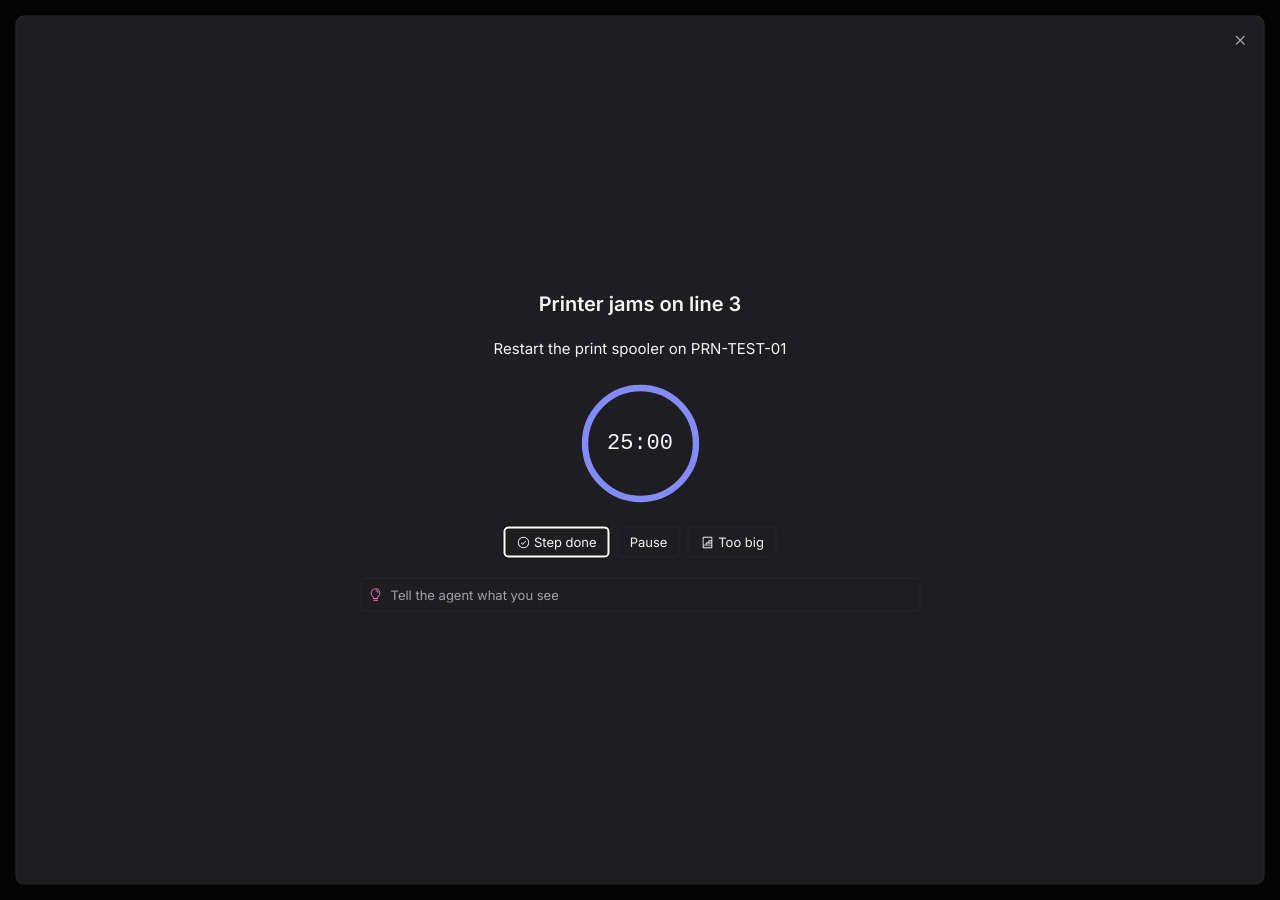
Scenario: FocusSession › test step done on an approve step reveals its actions
Check: the button "Approve" is not shown
Step 1. Click the button "Step done" → [556, 542], box x1=503 y1=527 x2=609 y2=558
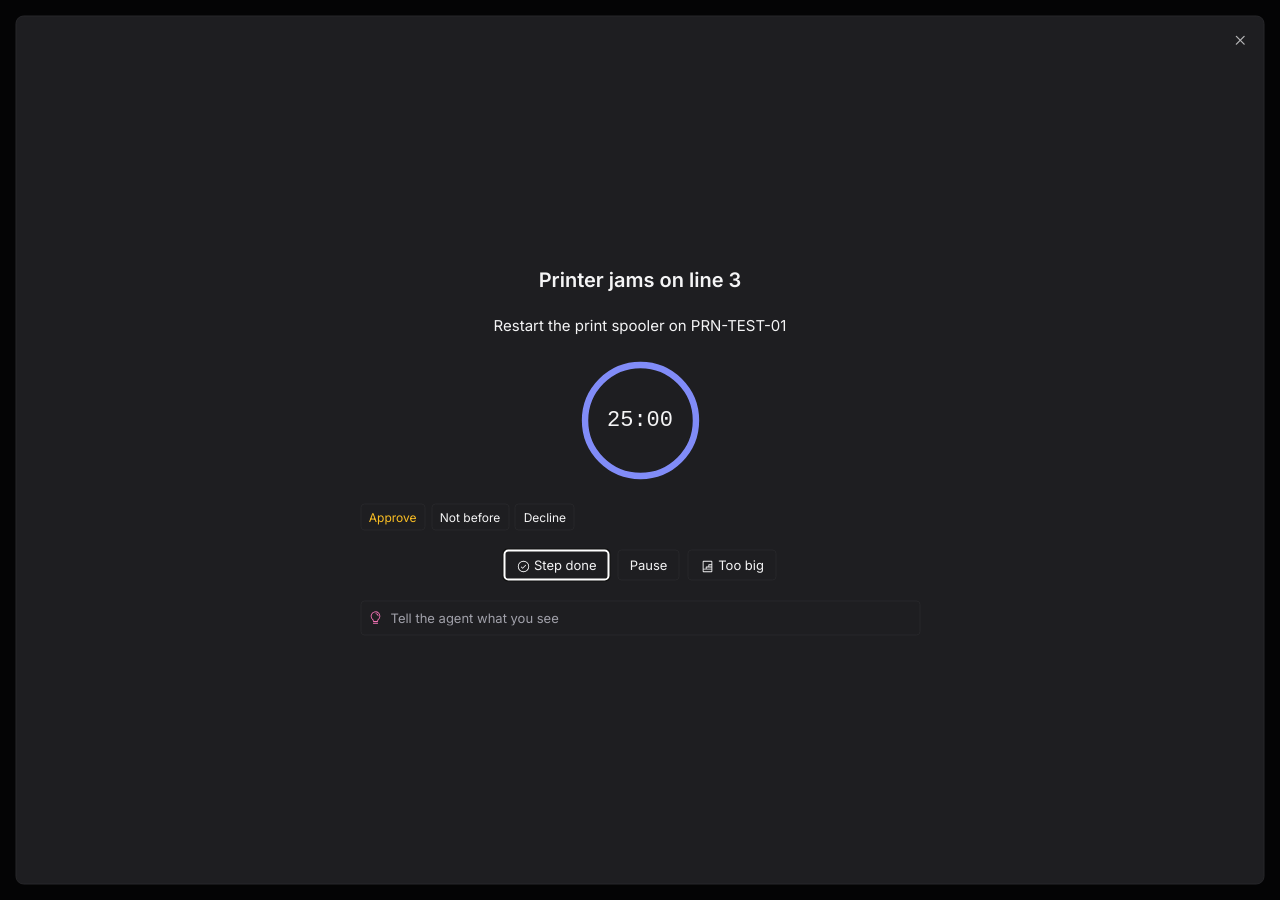
Check: the button "Approve" is shown, box x1=360 y1=503 x2=425 y2=530
